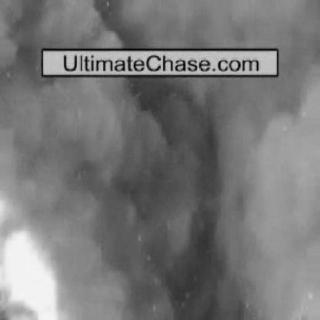Smoke: (19, 10, 313, 40)
